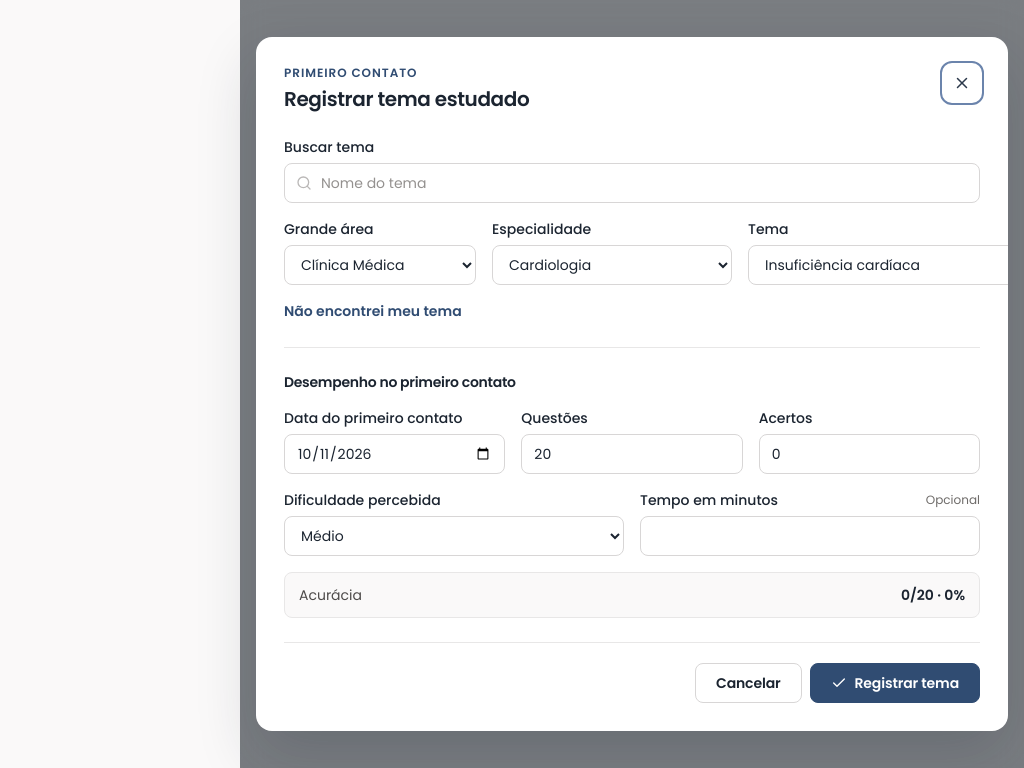
it: TopicFormModal › explains a copy saved by a double click between the check and the insert
This screenshot has width=1024, height=768.
Expected: the dropdown labelled "Tema" shows "Insuficiência cardíaca", [748, 245, 1008, 285]
Step 1. Click the button "Registrar tema" → (895, 683), box [810, 663, 980, 703]
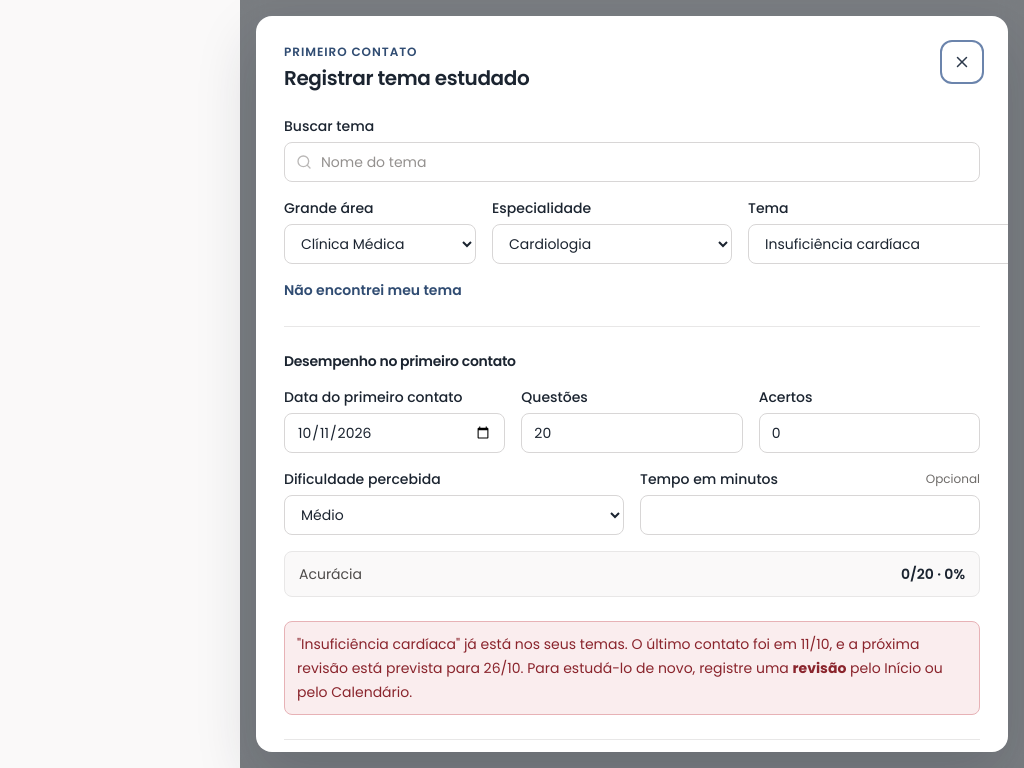
Expected: the message shows "está prevista para 26/10", [284, 621, 980, 715]
